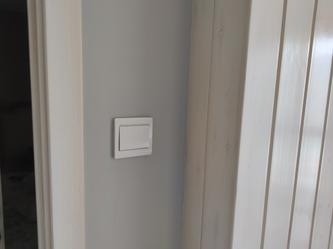switch: (119, 124, 152, 152)
